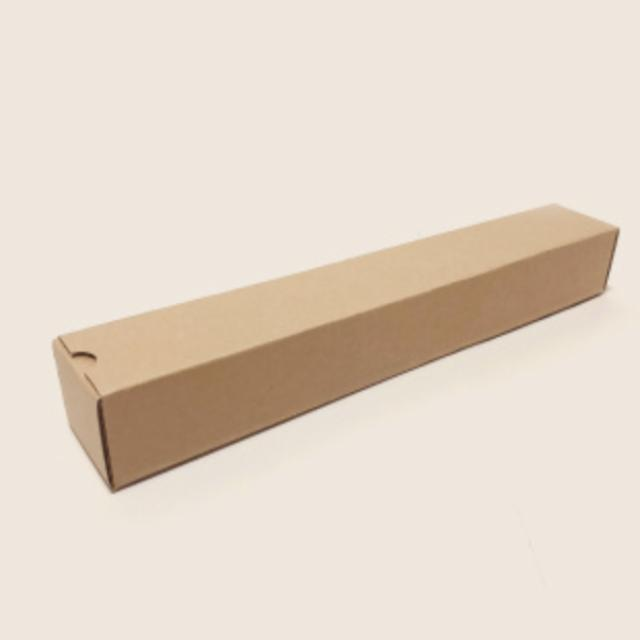biodegradable: (31, 133, 629, 538)
